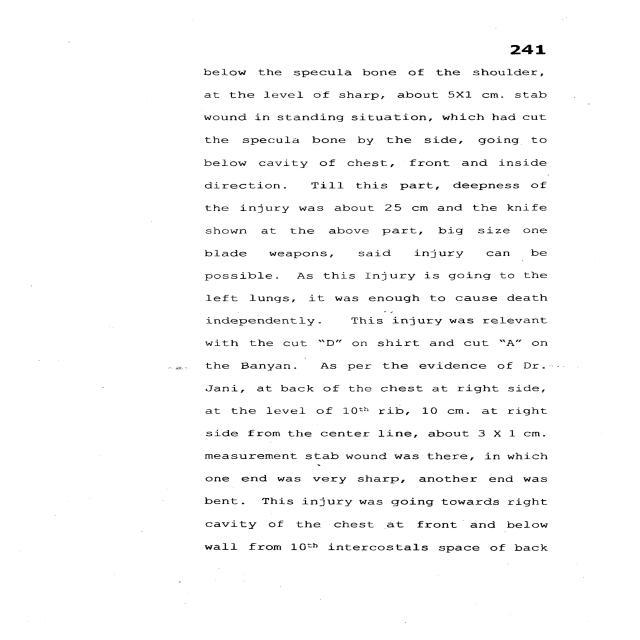page-number: (425, 0, 633, 60)
